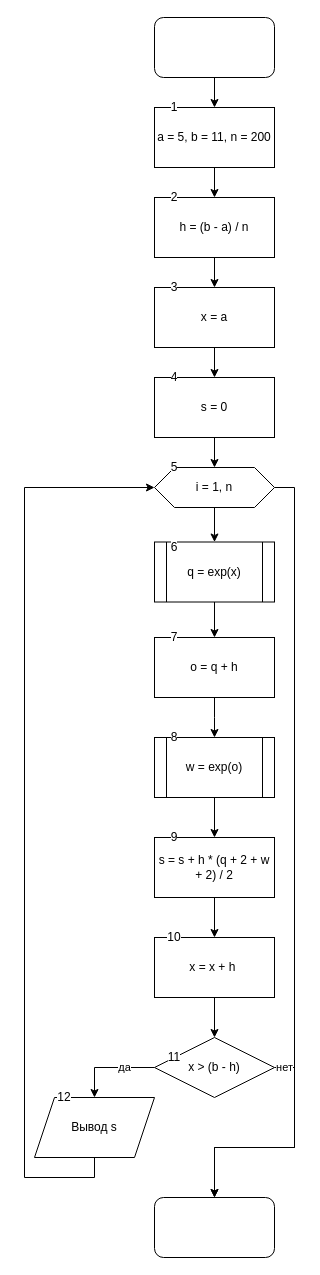
This 320x1275 diagram has some shape labels left out. Here are the shapes that lost their labels. From the top down, the centre of each, then its label:
At (x=214, y=47): "Начало".
At (x=214, y=1227): "Конец".
